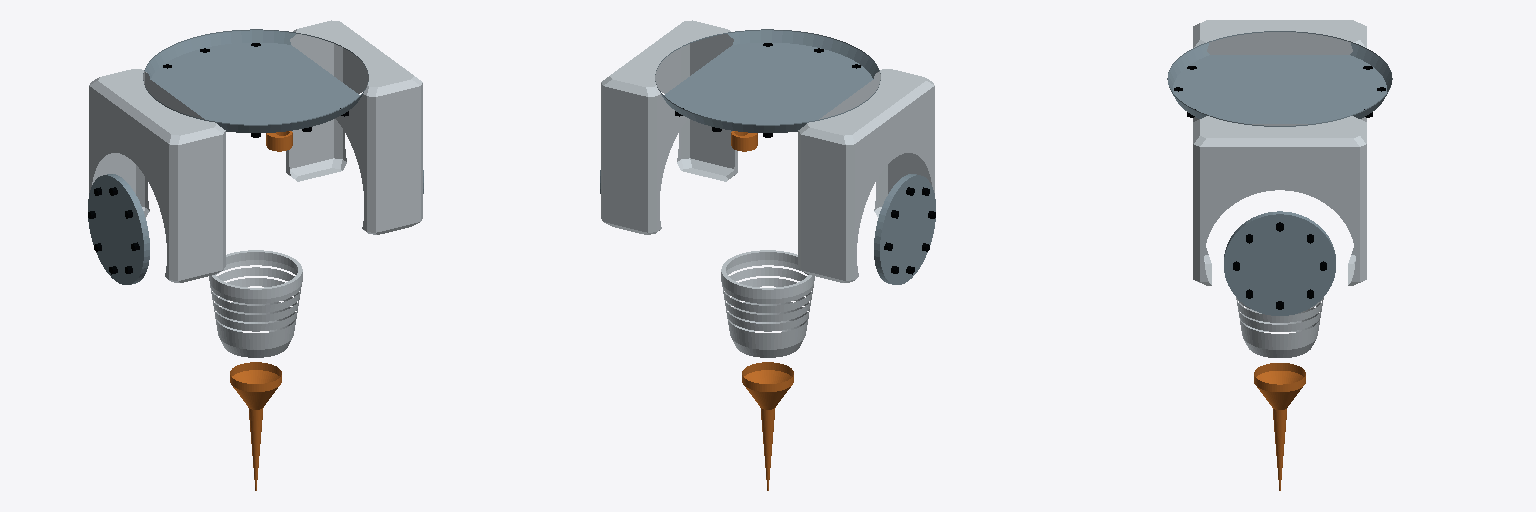
robot.urdf — A 长嘴切割头:
<?xml version='1.0' encoding='utf-8'?>
<robot name="A 长嘴切割头">
  <link name="刀头安装基准" />
  <joint name="head_mount" type="fixed">
    <parent link="刀头安装基准" />
    <child link="固定摆头叉架" />
    <origin xyz="0.00299999862909317 0.0 -0.8994999676942825" />
  </joint>
  <link name="固定摆头叉架">
    <visual name="c_yoke_dark">
      <geometry>
        <mesh filename="meshes/GA-3015_c_yoke_dark.stl" />
      </geometry>
      <material name="dark">
        <color rgba="0.08 0.11 0.14 1" />
      </material>
      <origin xyz="0.0 0.0 0.14499999582767487" />
    </visual>
    <visual name="c_yoke_steel">
      <geometry>
        <mesh filename="meshes/GA-3015_c_yoke_steel.stl" />
      </geometry>
      <material name="steel">
        <color rgba="0.54 0.61 0.65 1" />
      </material>
      <origin xyz="0.0 0.0 0.14499999582767487" />
    </visual>
    <visual name="c_yoke_black">
      <geometry>
        <mesh filename="meshes/GA-3015_c_yoke_black.stl" />
      </geometry>
      <material name="black">
        <color rgba="0.025 0.035 0.043 1" />
      </material>
      <origin xyz="0.0 0.0 0.14499999582767487" />
    </visual>
    <visual name="c_yoke_shell">
      <geometry>
        <mesh filename="meshes/GA-3015_c_yoke_shell.stl" />
      </geometry>
      <material name="shell">
        <color rgba="0.79 0.82 0.84 1" />
      </material>
      <origin xyz="0.0 0.0 0.14499999582767487" />
    </visual>
    <collision name="c_yoke_box_1">
      <origin xyz="0 0 0.0874994947845936" />
      <geometry>
        <box size="0.226 0.226 0.115001002086163" />
      </geometry>
    </collision>
    <collision name="c_yoke_box_2">
      <origin xyz="-0.10224950038743 0 -0.0500000041723251" />
      <geometry>
        <box size="0.11550099922514 0.171475026275635 0.2" />
      </geometry>
    </collision>
    <collision name="c_yoke_box_3">
      <origin xyz="0.10224950038743 0 -0.0500000041723251" />
      <geometry>
        <box size="0.11550099922514 0.171475026275635 0.2" />
      </geometry>
    </collision>
  </link>
  <link name="A 激光切割头">
    <icax_tool name="GA-3015 物理喷嘴" type="laser_cutting_head" tcp_mm="-3.26246023178101 0 -300.2" beam="0 0 -1" />
    <visual name="laser_head_dark">
      <geometry>
        <mesh filename="meshes/GA-3015_laser_head_dark.stl" />
      </geometry>
      <material name="dark">
        <color rgba="0.08 0.11 0.14 1" />
      </material>
      <origin xyz="-0.003262460231781006 0.0 0.0" />
    </visual>
    <visual name="laser_head_shell">
      <geometry>
        <mesh filename="meshes/GA-3015_laser_head_shell.stl" />
      </geometry>
      <material name="shell">
        <color rgba="0.79 0.82 0.84 1" />
      </material>
      <origin xyz="-0.003262460231781006 0.0 0.0" />
    </visual>
    <visual name="laser_head_steel">
      <geometry>
        <mesh filename="meshes/GA-3015_laser_head_steel.stl" />
      </geometry>
      <material name="steel">
        <color rgba="0.54 0.61 0.65 1" />
      </material>
      <origin xyz="-0.003262460231781006 0.0 0.0" />
    </visual>
    <visual name="laser_head_copper">
      <geometry>
        <mesh filename="meshes/GA-3015_laser_head_copper.stl" />
      </geometry>
      <material name="copper">
        <color rgba="0.78 0.46 0.19 1" />
      </material>
      <origin xyz="-0.003262460231781006 0.0 0.0" />
    </visual>
    <visual name="laser_head_black">
      <geometry>
        <mesh filename="meshes/GA-3015_laser_head_black.stl" />
      </geometry>
      <material name="black">
        <color rgba="0.025 0.035 0.043 1" />
      </material>
      <origin xyz="-0.003262460231781006 0.0 0.0" />
    </visual>
    <visual name="laser_head_teal">
      <geometry>
        <mesh filename="meshes/GA-3015_laser_head_teal.stl" />
      </geometry>
      <material name="teal">
        <color rgba="0.035 0.39 0.43 1" />
      </material>
      <origin xyz="-0.003262460231781006 0.0 0.0" />
    </visual>
    <collision name="laser_head_box_1">
      <origin xyz="-0.00326246023178101 0 -0.015" />
      <geometry>
        <box size="0.185002 0.116002 0.120002" />
      </geometry>
    </collision>
    <collision name="laser_head_box_2">
      <origin xyz="-0.00326246023178101 0 -0.116500003635883" />
      <geometry>
        <box size="0.088002 0.088002 0.0830020072717667" />
      </geometry>
    </collision>
    <collision name="laser_head_box_3">
      <origin xyz="-0.00326246023178101 0 -0.165699998915195" />
      <geometry>
        <box size="0.068002003695488 0.068002003695488 0.0306020021696091" />
      </geometry>
    </collision>
    <collision name="laser_nozzle_upper_slab">
      <origin xyz="-0.00326246023178101 0 -0.197" />
      <geometry>
        <box size="0.048002 0.048002 0.034002" />
      </geometry>
    </collision>
    <collision name="laser_head_box_5">
      <origin xyz="0.015786039768219 0.025 0.0863198262304068" />
      <geometry>
        <box size="0.171905 0.090002 0.0963623475391865" />
      </geometry>
    </collision>
    <collision name="laser_nozzle_tip_slab_01">
      <origin xyz="-0.00326246023178101 0 -0.215" />
      <geometry>
        <box size="0.0140020004321337 0.0140020004321337 0.002002" />
      </geometry>
    </collision>
    <collision name="laser_nozzle_tip_slab_02">
      <origin xyz="-0.00326246023178101 0 -0.217" />
      <geometry>
        <box size="0.0136996748406887 0.0136996748406887 0.002002" />
      </geometry>
    </collision>
    <collision name="laser_nozzle_tip_slab_03">
      <origin xyz="-0.00326246023178101 0 -0.219" />
      <geometry>
        <box size="0.0133973492492437 0.0133973492492437 0.002002" />
      </geometry>
    </collision>
    <collision name="laser_nozzle_tip_slab_04">
      <origin xyz="-0.00326246023178101 0 -0.221" />
      <geometry>
        <box size="0.0130950236577988 0.0130950236577988 0.002002" />
      </geometry>
    </collision>
    <collision name="laser_nozzle_tip_slab_05">
      <origin xyz="-0.00326246023178101 0 -0.223" />
      <geometry>
        <box size="0.0127926980663538 0.0127926980663538 0.002002" />
      </geometry>
    </collision>
    <collision name="laser_nozzle_tip_slab_06">
      <origin xyz="-0.00326246023178101 0 -0.225" />
      <geometry>
        <box size="0.0124903724749088 0.0124903724749088 0.002002" />
      </geometry>
    </collision>
    <collision name="laser_nozzle_tip_slab_07">
      <origin xyz="-0.00326246023178101 0 -0.227" />
      <geometry>
        <box size="0.0121880468834639 0.0121880468834639 0.002002" />
      </geometry>
    </collision>
    <collision name="laser_nozzle_tip_slab_08">
      <origin xyz="-0.00326246023178101 0 -0.229" />
      <geometry>
        <box size="0.0118857212920189 0.0118857212920189 0.00200199999999997" />
      </geometry>
    </collision>
    <collision name="laser_nozzle_tip_slab_09">
      <origin xyz="-0.00326246023178101 0 -0.231" />
      <geometry>
        <box size="0.0115833957005739 0.0115833957005739 0.002002" />
      </geometry>
    </collision>
    <collision name="laser_nozzle_tip_slab_10">
      <origin xyz="-0.00326246023178101 0 -0.233" />
      <geometry>
        <box size="0.011281070109129 0.011281070109129 0.002002" />
      </geometry>
    </collision>
    <collision name="laser_nozzle_tip_slab_11">
      <origin xyz="-0.00326246023178101 0 -0.235" />
      <geometry>
        <box size="0.010978744517684 0.010978744517684 0.002002" />
      </geometry>
    </collision>
    <collision name="laser_nozzle_tip_slab_12">
      <origin xyz="-0.00326246023178101 0 -0.237" />
      <geometry>
        <box size="0.010676418926239 0.010676418926239 0.002002" />
      </geometry>
    </collision>
    <collision name="laser_nozzle_tip_slab_13">
      <origin xyz="-0.00326246023178101 0 -0.239" />
      <geometry>
        <box size="0.010374093334794 0.010374093334794 0.002002" />
      </geometry>
    </collision>
    <collision name="laser_nozzle_tip_slab_14">
      <origin xyz="-0.00326246023178101 0 -0.241" />
      <geometry>
        <box size="0.0100717677433491 0.0100717677433491 0.002002" />
      </geometry>
    </collision>
    <collision name="laser_nozzle_tip_slab_15">
      <origin xyz="-0.00326246023178101 0 -0.243" />
      <geometry>
        <box size="0.00976944215190411 0.00976944215190411 0.002002" />
      </geometry>
    </collision>
    <collision name="laser_nozzle_tip_slab_16">
      <origin xyz="-0.00326246023178101 0 -0.245" />
      <geometry>
        <box size="0.00946711656045914 0.00946711656045914 0.002002" />
      </geometry>
    </collision>
    <collision name="laser_nozzle_tip_slab_17">
      <origin xyz="-0.00326246023178101 0 -0.247" />
      <geometry>
        <box size="0.00916479096901417 0.00916479096901417 0.002002" />
      </geometry>
    </collision>
    <collision name="laser_nozzle_tip_slab_18">
      <origin xyz="-0.00326246023178101 0 -0.249" />
      <geometry>
        <box size="0.0088624653775692 0.0088624653775692 0.002002" />
      </geometry>
    </collision>
    <collision name="laser_nozzle_tip_slab_19">
      <origin xyz="-0.00326246023178101 0 -0.251" />
      <geometry>
        <box size="0.00856013978612423 0.00856013978612423 0.002002" />
      </geometry>
    </collision>
    <collision name="laser_nozzle_tip_slab_20">
      <origin xyz="-0.00326246023178101 0 -0.253" />
      <geometry>
        <box size="0.00825781419467926 0.00825781419467926 0.002002" />
      </geometry>
    </collision>
    <collision name="laser_nozzle_tip_slab_21">
      <origin xyz="-0.00326246023178101 0 -0.255" />
      <geometry>
        <box size="0.00795548860323429 0.00795548860323429 0.002002" />
      </geometry>
    </collision>
    <collision name="laser_nozzle_tip_slab_22">
      <origin xyz="-0.00326246023178101 0 -0.257" />
      <geometry>
        <box size="0.00765316301178932 0.00765316301178932 0.002002" />
      </geometry>
    </collision>
    <collision name="laser_nozzle_tip_slab_23">
      <origin xyz="-0.00326246023178101 0 -0.259" />
      <geometry>
        <box size="0.00735083742034435 0.00735083742034435 0.002002" />
      </geometry>
    </collision>
    <collision name="laser_nozzle_tip_slab_24">
      <origin xyz="-0.00326246023178101 0 -0.261" />
      <geometry>
        <box size="0.00704851182889938 0.00704851182889938 0.002002" />
      </geometry>
    </collision>
    <collision name="laser_nozzle_tip_slab_25">
      <origin xyz="-0.00326246023178101 0 -0.263" />
      <geometry>
        <box size="0.00674618623745441 0.00674618623745441 0.002002" />
      </geometry>
    </collision>
    <collision name="laser_nozzle_tip_slab_26">
      <origin xyz="-0.00326246023178101 0 -0.265" />
      <geometry>
        <box size="0.00644386064600944 0.00644386064600944 0.002002" />
      </geometry>
    </collision>
    <collision name="laser_nozzle_tip_slab_27">
      <origin xyz="-0.00326246023178101 0 -0.267" />
      <geometry>
        <box size="0.00614153505456447 0.00614153505456447 0.002002" />
      </geometry>
    </collision>
    <collision name="laser_nozzle_tip_slab_28">
      <origin xyz="-0.00326246023178101 0 -0.269" />
      <geometry>
        <box size="0.0058392094631195 0.0058392094631195 0.002002" />
      </geometry>
    </collision>
    <collision name="laser_nozzle_tip_slab_29">
      <origin xyz="-0.00326246023178101 0 -0.271" />
      <geometry>
        <box size="0.00553688387167454 0.00553688387167454 0.002002" />
      </geometry>
    </collision>
    <collision name="laser_nozzle_tip_slab_30">
      <origin xyz="-0.00326246023178101 0 -0.273" />
      <geometry>
        <box size="0.00523455828022957 0.00523455828022957 0.00200199999999995" />
      </geometry>
    </collision>
    <collision name="laser_nozzle_tip_slab_31">
      <origin xyz="-0.00326246023178101 0 -0.275" />
      <geometry>
        <box size="0.0049322326887846 0.0049322326887846 0.00200200000000006" />
      </geometry>
    </collision>
    <collision name="laser_nozzle_tip_slab_32">
      <origin xyz="-0.00326246023178101 0 -0.277" />
      <geometry>
        <box size="0.00462990709733963 0.00462990709733963 0.002002" />
      </geometry>
    </collision>
    <collision name="laser_nozzle_tip_slab_33">
      <origin xyz="-0.00326246023178101 0 -0.279" />
      <geometry>
        <box size="0.00432758150589466 0.00432758150589466 0.00200199999999995" />
      </geometry>
    </collision>
    <collision name="laser_nozzle_tip_slab_34">
      <origin xyz="-0.00326246023178101 0 -0.281" />
      <geometry>
        <box size="0.00402525591444969 0.00402525591444969 0.00200200000000006" />
      </geometry>
    </collision>
    <collision name="laser_nozzle_tip_slab_35">
      <origin xyz="-0.00326246023178101 0 -0.283" />
      <geometry>
        <box size="0.00372293032300472 0.00372293032300472 0.00200199999999995" />
      </geometry>
    </collision>
    <collision name="laser_nozzle_tip_slab_36">
      <origin xyz="-0.00326246023178101 0 -0.285" />
      <geometry>
        <box size="0.00342060473155976 0.00342060473155976 0.002002" />
      </geometry>
    </collision>
    <collision name="laser_nozzle_tip_slab_37">
      <origin xyz="-0.00326246023178101 0 -0.287" />
      <geometry>
        <box size="0.00311827914011479 0.00311827914011479 0.002002" />
      </geometry>
    </collision>
    <collision name="laser_nozzle_tip_slab_38">
      <origin xyz="-0.00326246023178101 0 -0.289" />
      <geometry>
        <box size="0.00281595354866982 0.00281595354866982 0.002002" />
      </geometry>
    </collision>
    <collision name="laser_nozzle_tip_slab_39">
      <origin xyz="-0.00326246023178101 0 -0.291" />
      <geometry>
        <box size="0.00251362795722485 0.00251362795722485 0.002002" />
      </geometry>
    </collision>
    <collision name="laser_nozzle_tip_slab_40">
      <origin xyz="-0.00326246023178101 0 -0.293" />
      <geometry>
        <box size="0.00221130236577988 0.00221130236577988 0.002002" />
      </geometry>
    </collision>
    <collision name="laser_nozzle_tip_slab_41">
      <origin xyz="-0.00326246023178101 0 -0.295" />
      <geometry>
        <box size="0.00190897677433491 0.00190897677433491 0.002002" />
      </geometry>
    </collision>
    <collision name="laser_nozzle_tip_slab_42">
      <origin xyz="-0.00326246023178101 0 -0.297" />
      <geometry>
        <box size="0.00160665118288994 0.00160665118288994 0.002002" />
      </geometry>
    </collision>
    <collision name="laser_nozzle_tip_slab_43">
      <origin xyz="-0.00326246023178101 0 -0.299" />
      <geometry>
        <box size="0.00130432559144497 0.00130432559144497 0.002002" />
      </geometry>
    </collision>
  </link>
  <joint name="A" type="revolute">
    <parent link="固定摆头叉架" />
    <child link="A 激光切割头" />
    <origin xyz="0.003262460231781006 0.0 -0.07500000417232514" />
    <axis xyz="1 0 0" />
    <limit lower="-2.09439510239" upper="2.09439510239" velocity="1.5" effort="5000" />
  </joint>
</robot>

--- What the picture shows (computed from the rendered views, not written in the file) ---
The picture shows the robot from 3 angles, left to right: view 1: azimuth 30°, elevation 25°; view 2: azimuth 150°, elevation 25°; view 3: azimuth 270°, elevation 25°; orthographic projection.
Model A 长嘴切割头 with 3 links and 2 joints (1 revolute, 1 fixed), rooted at 刀头安装基准, posed all joints at 0.
Links seen in each view (by area): view 1: 固定摆头叉架, A 激光切割头; view 2: 固定摆头叉架, A 激光切割头; view 3: 固定摆头叉架, A 激光切割头.
Link boxes in pixels (x1=…): 固定摆头叉架: x1=88, y1=20, x2=423, y2=284; A 激光切割头: x1=209, y1=131, x2=302, y2=490; 固定摆头叉架: x1=600, y1=20, x2=935, y2=284; A 激光切割头: x1=721, y1=131, x2=814, y2=490; 固定摆头叉架: x1=1167, y1=20, x2=1392, y2=315; A 激光切割头: x1=1236, y1=297, x2=1323, y2=490.
Bounding box of the posed robot: 0.308 × 0.208 × 0.421 m (x, y, z).
Meshes: 10 distinct files referenced, 5 mesh visuals loaded (5 binary STL); not drawn: 5 (reference not matched to a file when rendering).
